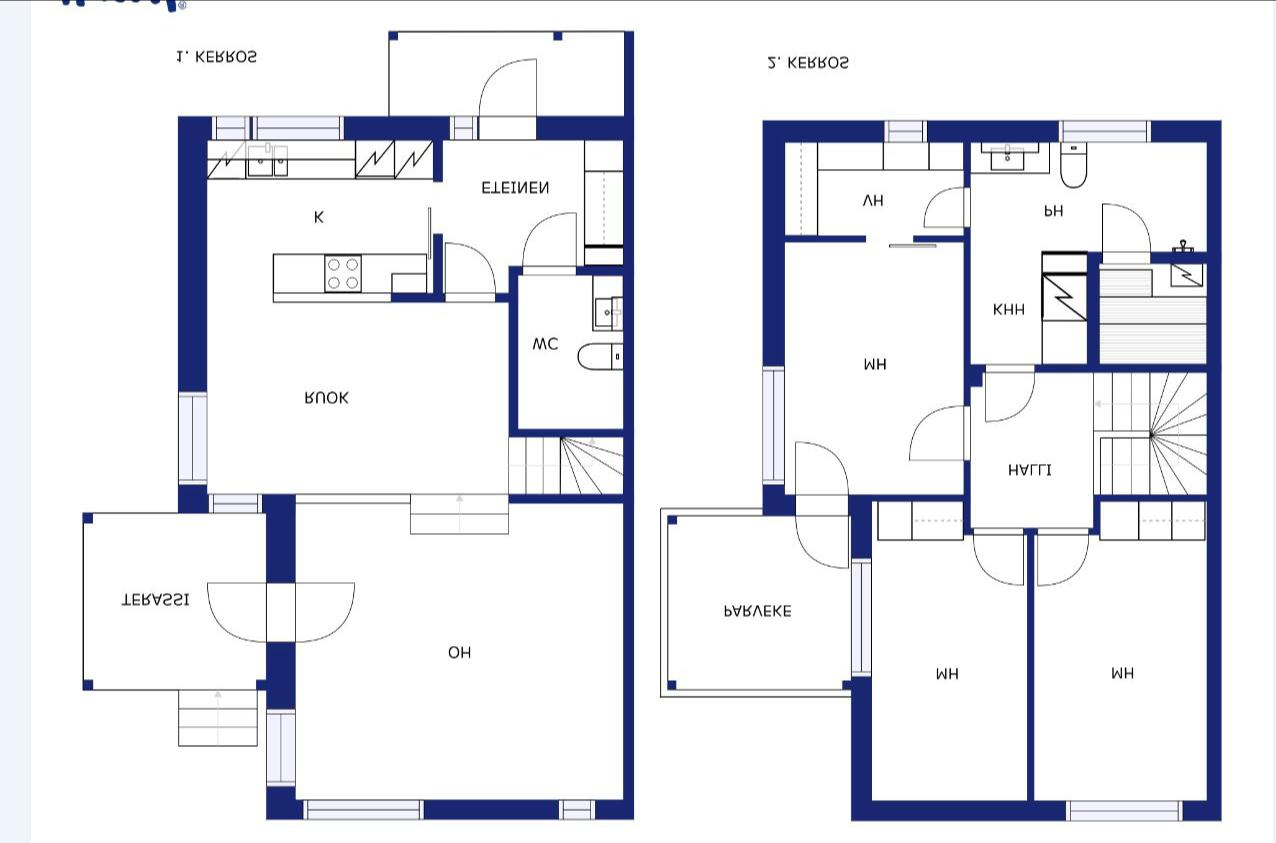door: (266, 576, 366, 646), (201, 572, 299, 642), (475, 52, 543, 144), (793, 435, 855, 516), (793, 494, 850, 574), (438, 240, 500, 306), (904, 403, 973, 462), (1100, 195, 1156, 265), (520, 214, 577, 276), (1036, 526, 1090, 590), (969, 528, 1024, 590), (980, 367, 1036, 423), (918, 185, 974, 231)
window: (1056, 793, 1198, 826), (172, 380, 212, 496), (294, 792, 430, 826), (757, 364, 792, 493), (259, 698, 305, 794), (848, 552, 877, 682), (1051, 114, 1161, 146), (249, 111, 352, 142), (875, 118, 934, 146), (202, 114, 256, 142), (551, 796, 603, 823), (445, 117, 484, 144)
